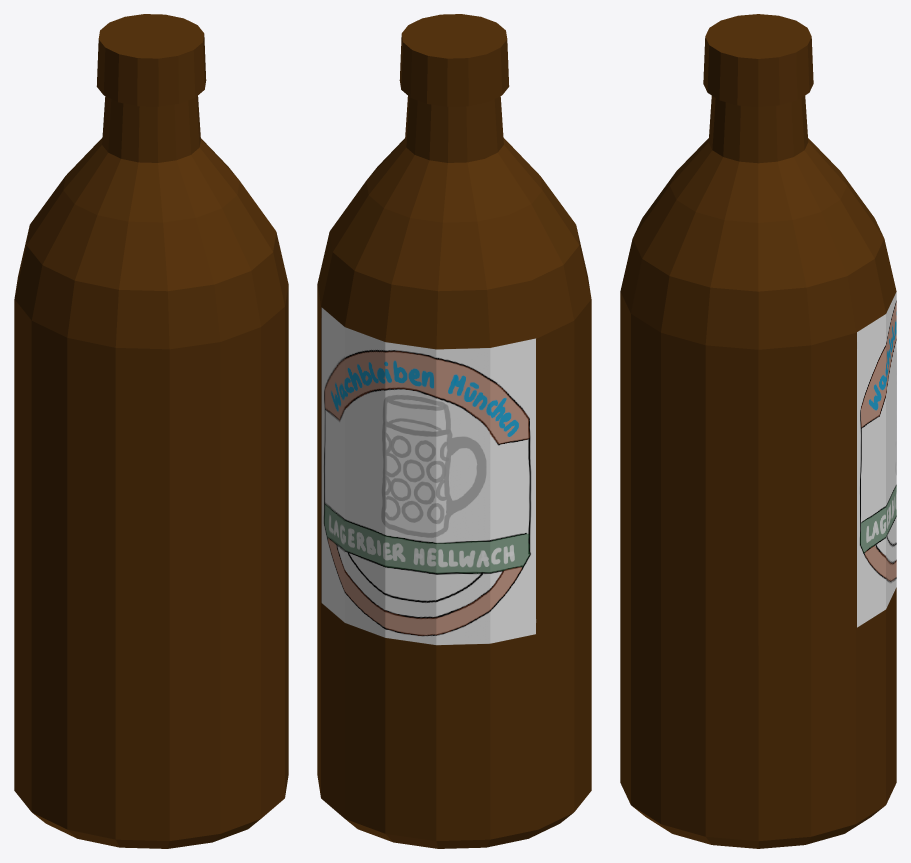
File: beer.obj
The picture shows the model from 3 angles, left to right: view 1: azimuth 30°, elevation 25°; view 2: azimuth 150°, elevation 25°; view 3: azimuth 270°, elevation 25°; orthographic projection.
Parts seen in each view (by area): view 1: Cylinder.010; view 2: Cylinder.010; view 3: Cylinder.010.
Part boxes in pixels (bbox=[...]): Cylinder.010: bbox=[14, 14, 288, 848]; Cylinder.010: bbox=[317, 14, 591, 848]; Cylinder.010: bbox=[620, 14, 896, 848].
Size of the model in its own units: 0.0792 by 0.2407 by 0.0792.
